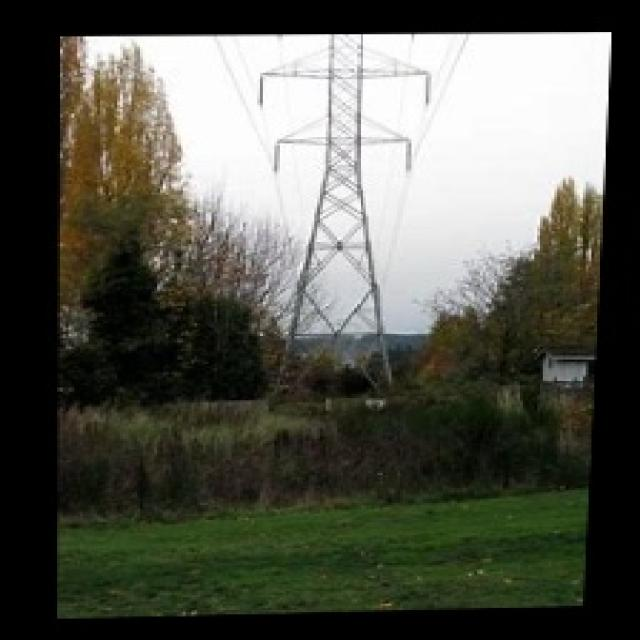utility poles: (198, 248, 331, 414), (355, 311, 491, 424)
